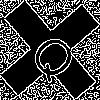Q: (25, 25, 87, 86)
